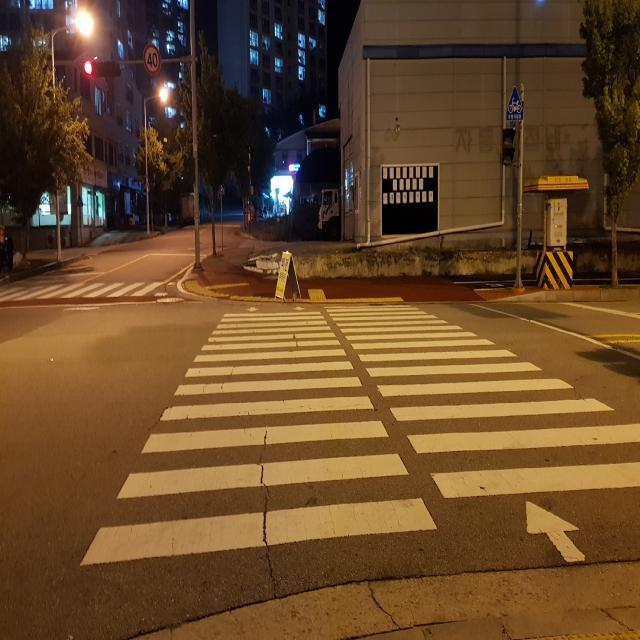횡단보도: (80, 304, 640, 565), (0, 263, 168, 303)
